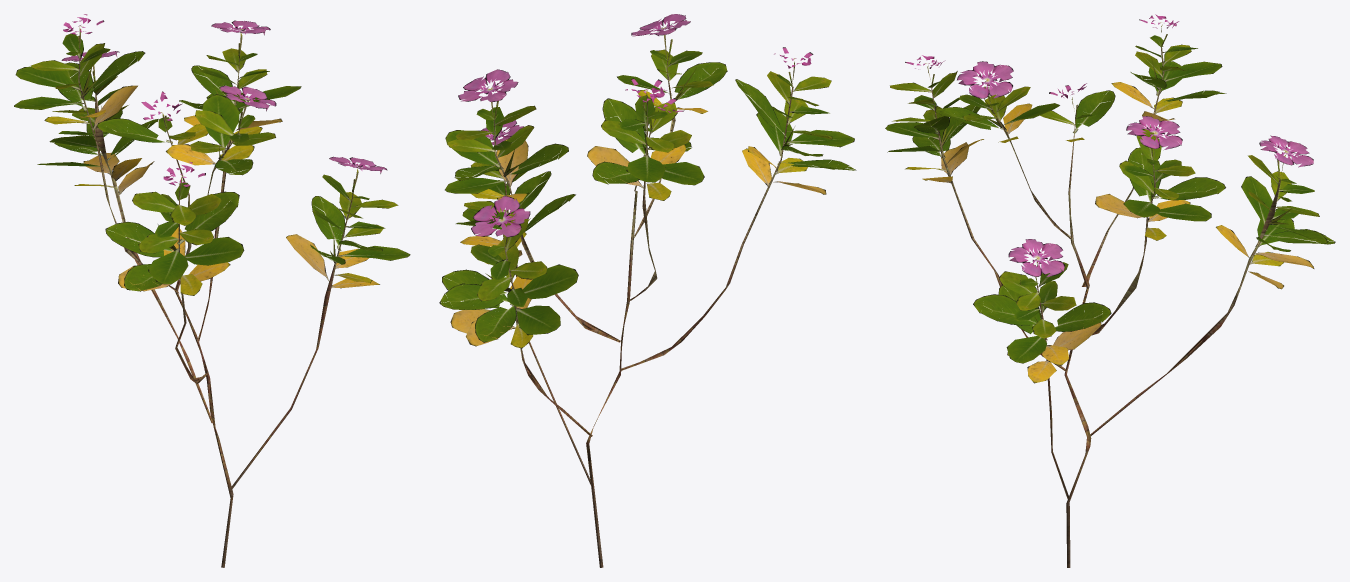
File: periwinkle.glb
3 renders of one model, left to right at view 1: azimuth 30°, elevation 25°; view 2: azimuth 150°, elevation 25°; view 3: azimuth 270°, elevation 25°, orthographic. The views are drawn at different scales.
Parts seen in each view (by area): view 1: periwinkle_plant_01_LOD0; view 2: periwinkle_plant_01_LOD0; view 3: periwinkle_plant_01_LOD0.
Boxes of the visible parts, left/top/right/bottom form: periwinkle_plant_01_LOD0: left=14, top=14, right=410, bottom=567; periwinkle_plant_01_LOD0: left=439, top=14, right=856, bottom=567; periwinkle_plant_01_LOD0: left=885, top=14, right=1335, bottom=567.
Size of the model in its own units: 0.2609 by 0.3972 by 0.3209.
1 material, 1 textured.
